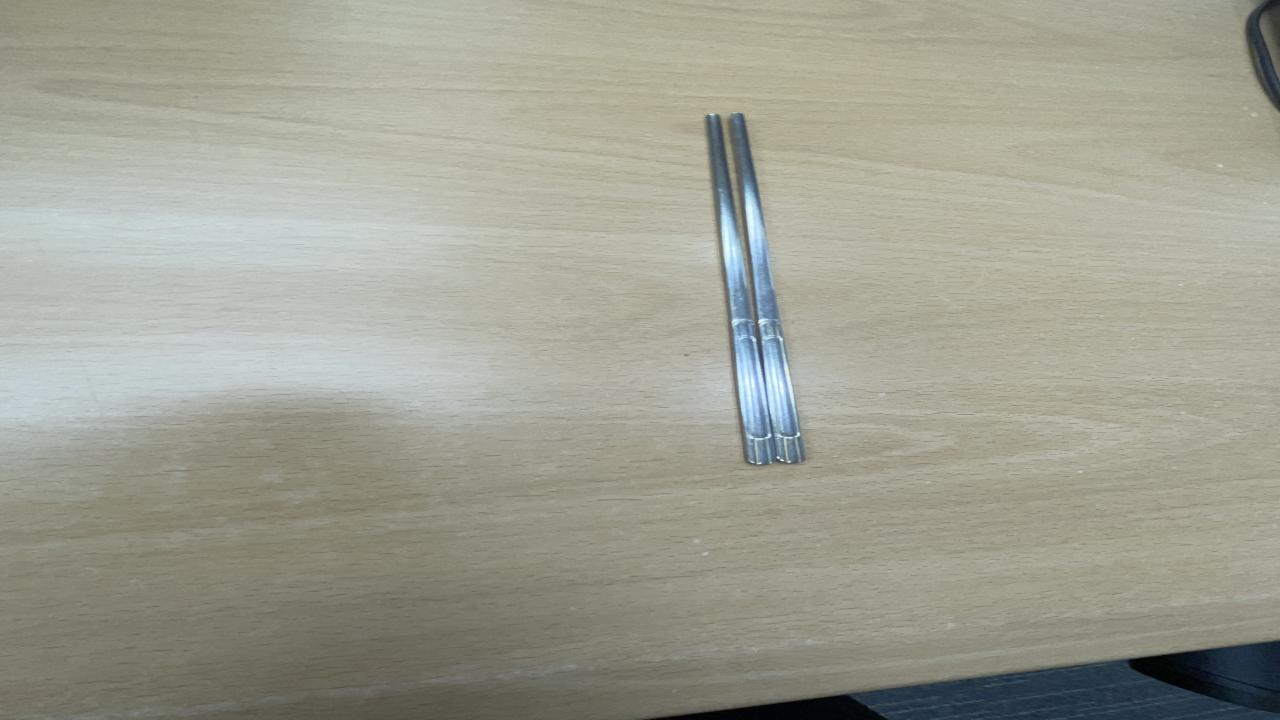chopstick: (696, 110, 817, 468)
